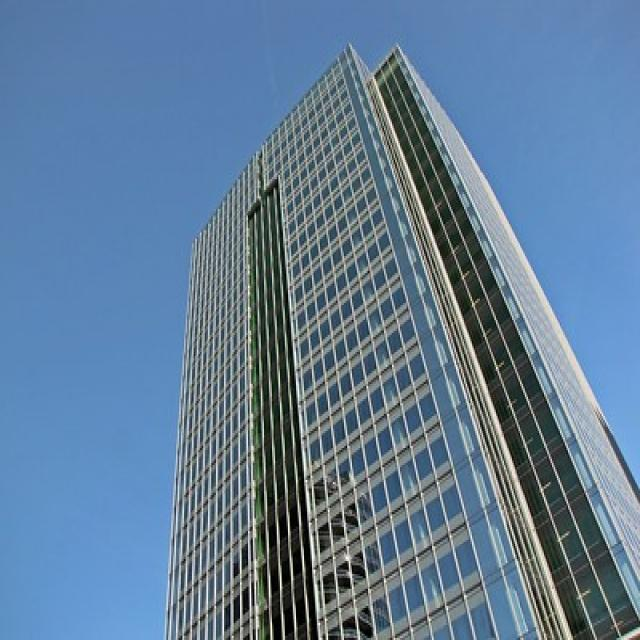Normal_building: (158, 38, 640, 640)
